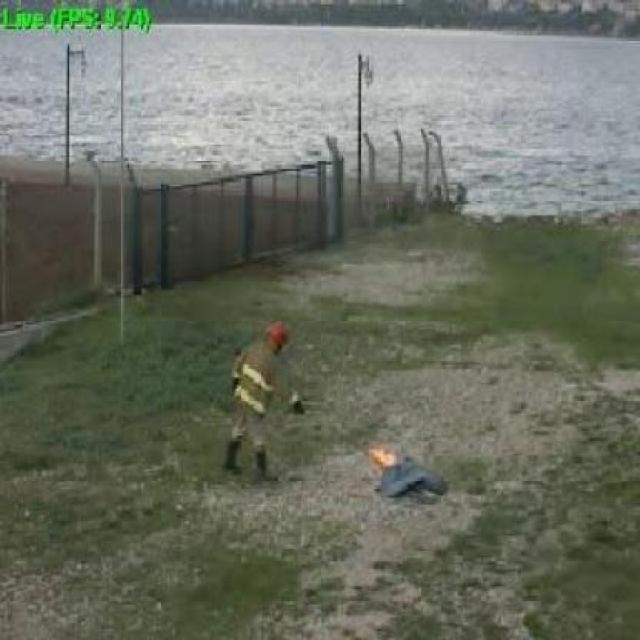Fire: (368, 446, 397, 469)
